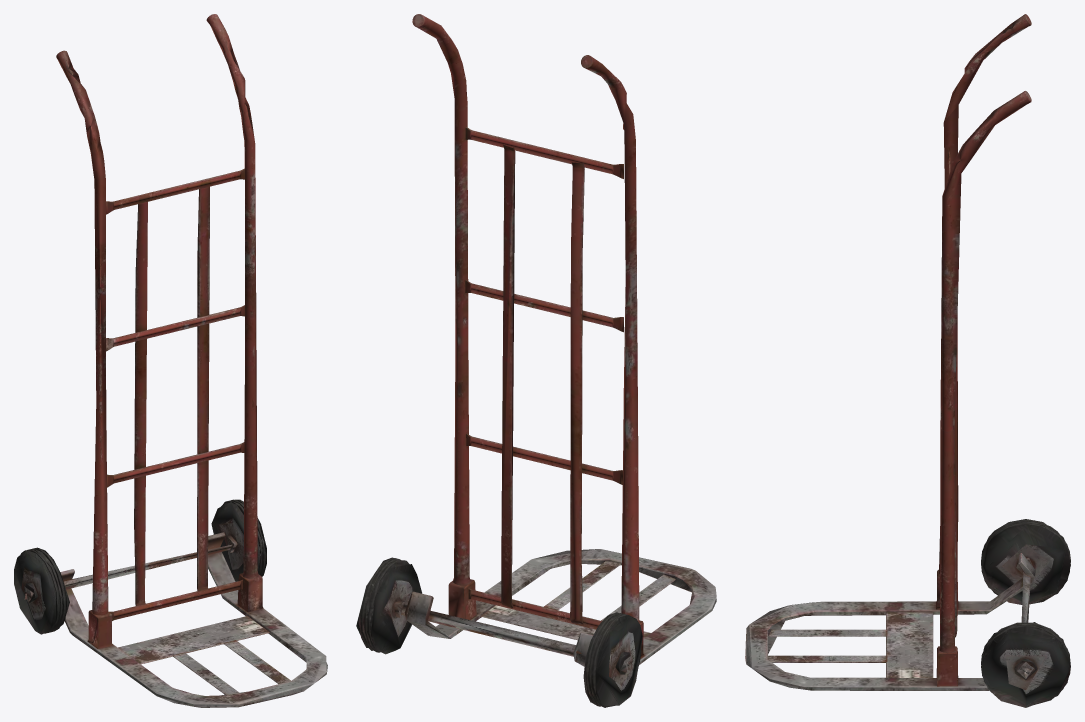
Rendered from carretilla_mano.glb.
3 renders of one model, left to right at view 1: azimuth 30°, elevation 25°; view 2: azimuth 150°, elevation 25°; view 3: azimuth 270°, elevation 25°, orthographic. The views are drawn at different scales.
Parts seen in each view (by area): view 1: hand_truck_1k(Clone); view 2: hand_truck_1k(Clone); view 3: hand_truck_1k(Clone).
Part boxes in pixels (x1=…): hand_truck_1k(Clone): x1=14, y1=14, x2=327, y2=707; hand_truck_1k(Clone): x1=356, y1=14, x2=716, y2=707; hand_truck_1k(Clone): x1=745, y1=14, x2=1070, y2=707.
Size of the model in its own units: 0.5933 by 1.4 by 0.6904.
1 material, 1 textured.
